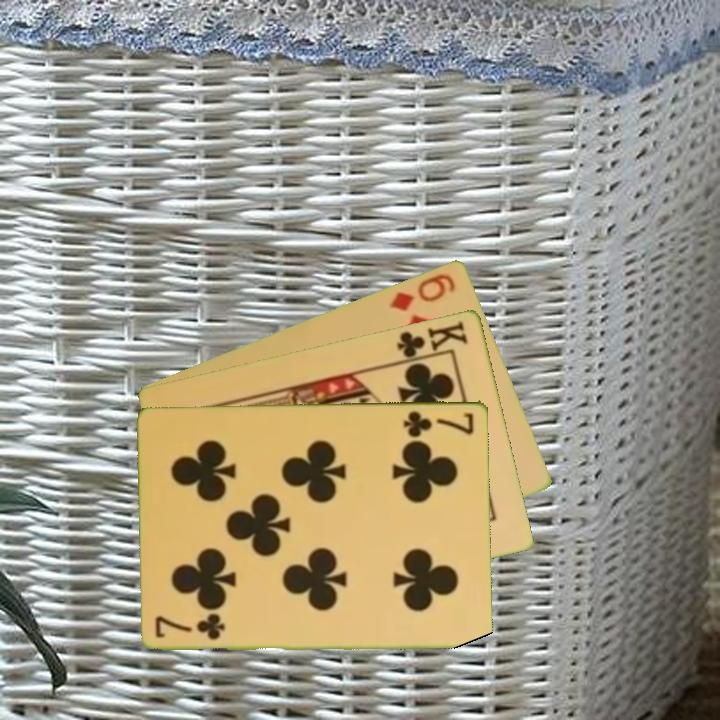6d: (386, 269, 459, 314)
7c: (400, 407, 477, 439), (152, 614, 228, 642)
Kc: (393, 317, 471, 365)
